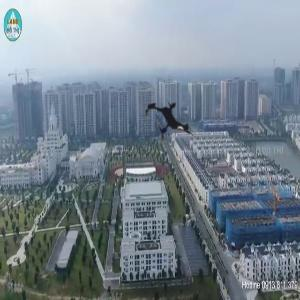drone: (127, 81, 210, 164)
